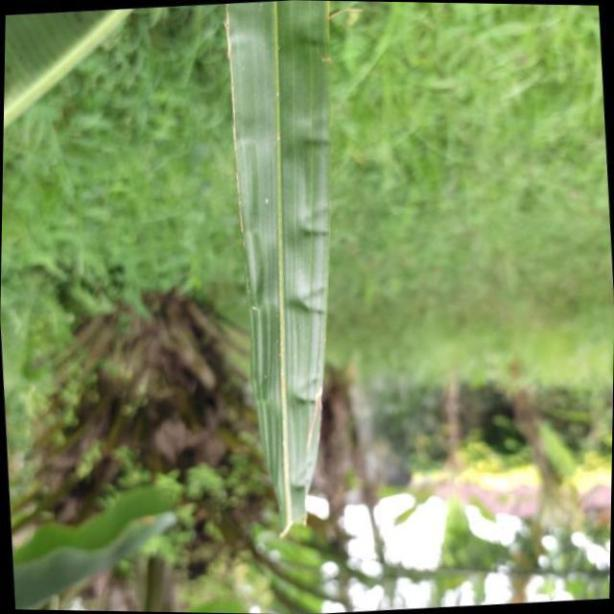Boron: (222, 0, 331, 542)
